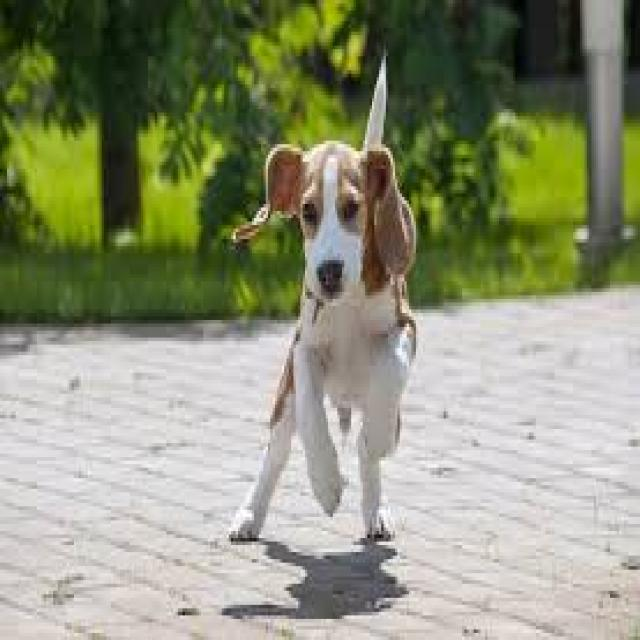Dog: (226, 46, 425, 560)
